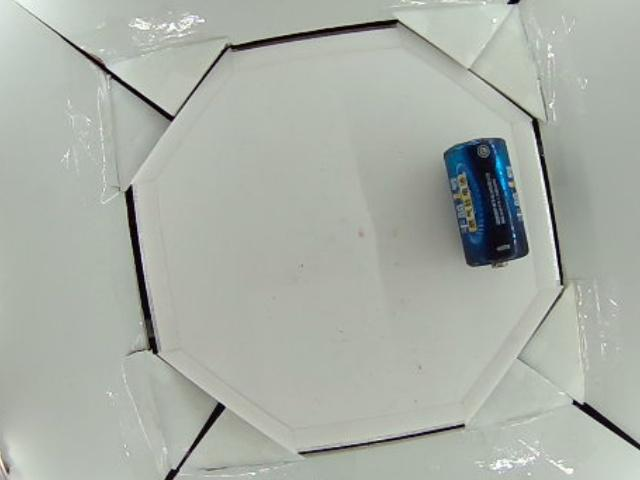Battery: (443, 136, 531, 268)
